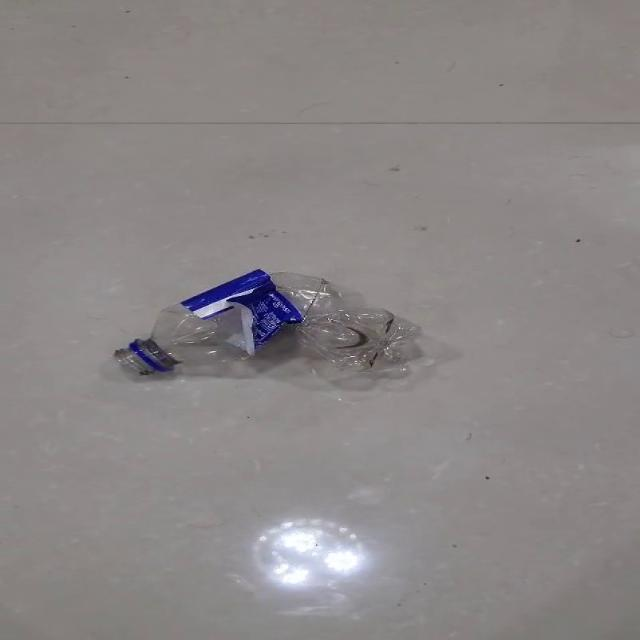plastic: (112, 268, 422, 380)
